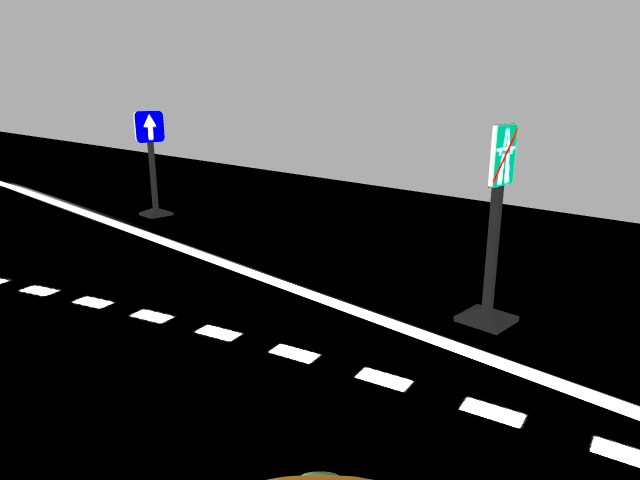HighwayExit: (485, 121, 521, 189)
OneWay: (129, 106, 167, 143)
